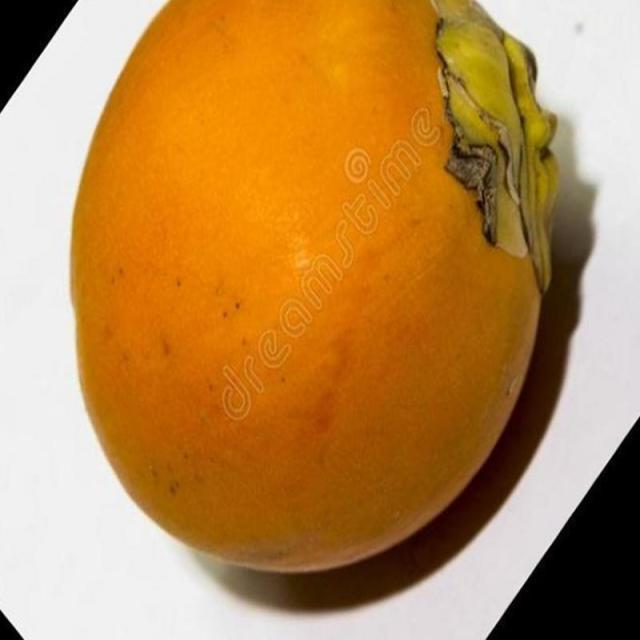good: (68, 0, 562, 582)
